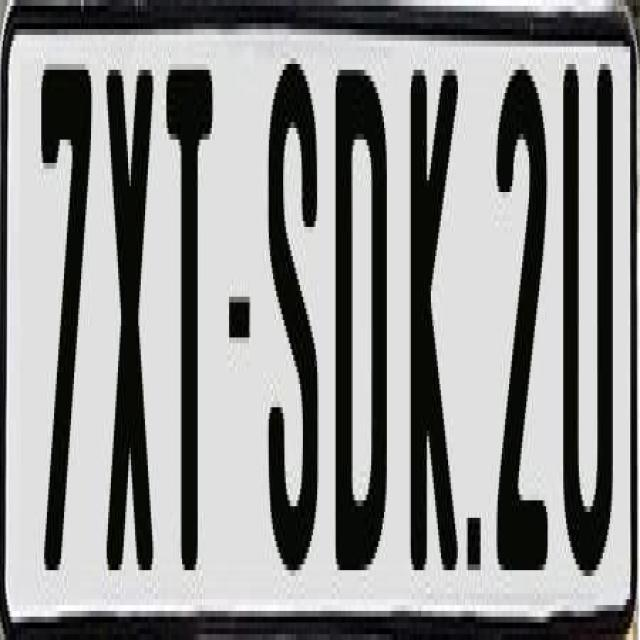2: (496, 52, 550, 558)
7: (41, 64, 97, 588)
D: (332, 58, 392, 570)
K: (411, 70, 458, 570)
S: (269, 46, 323, 552)
T: (166, 52, 218, 564)
U: (560, 52, 614, 570)
X: (105, 64, 161, 582)
